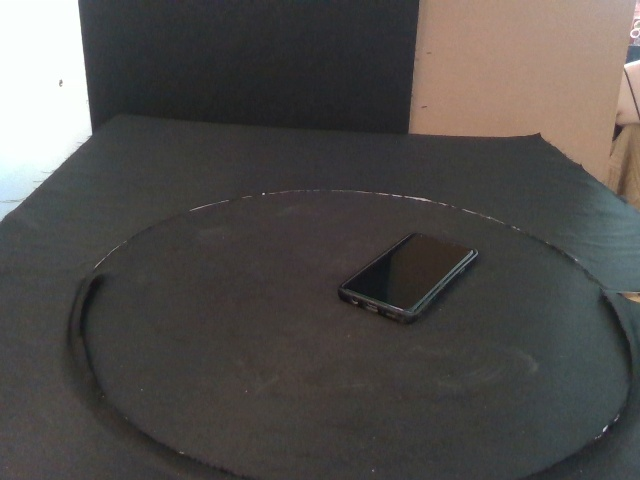phone: (337, 231, 479, 324)
